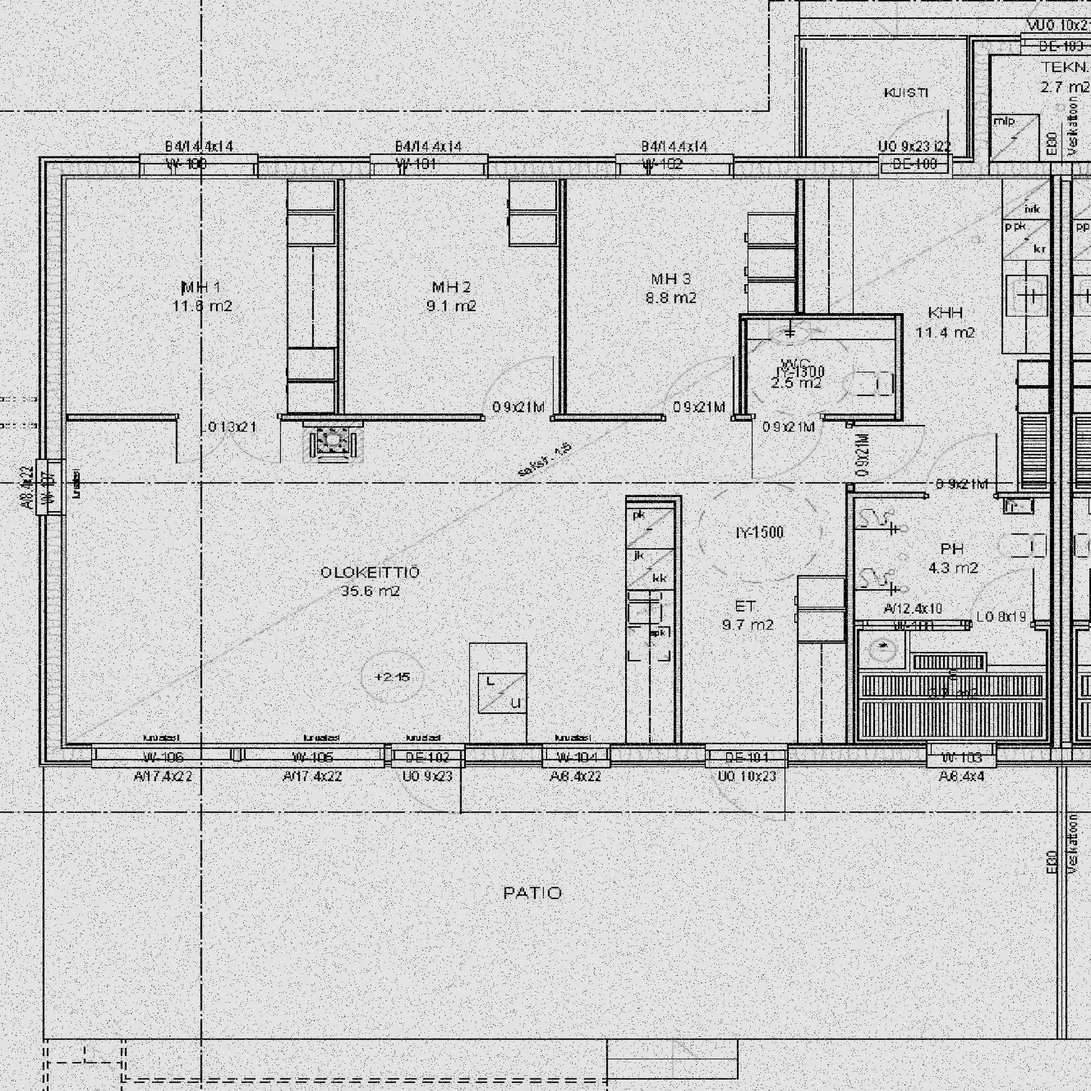wall: (38, 156, 990, 179), (39, 744, 854, 767), (38, 156, 66, 767), (1050, 160, 1072, 767), (846, 737, 1072, 767), (39, 414, 747, 421), (968, 36, 990, 179), (846, 620, 1072, 631), (337, 157, 346, 421), (846, 492, 854, 767), (674, 495, 682, 767), (559, 157, 567, 421), (968, 160, 1072, 179), (796, 157, 805, 320), (846, 492, 1072, 498), (739, 414, 904, 421), (895, 313, 904, 421), (739, 313, 747, 421), (797, 313, 904, 320), (846, 414, 854, 492), (1050, 160, 1072, 179), (739, 313, 797, 320), (625, 496, 682, 503)
